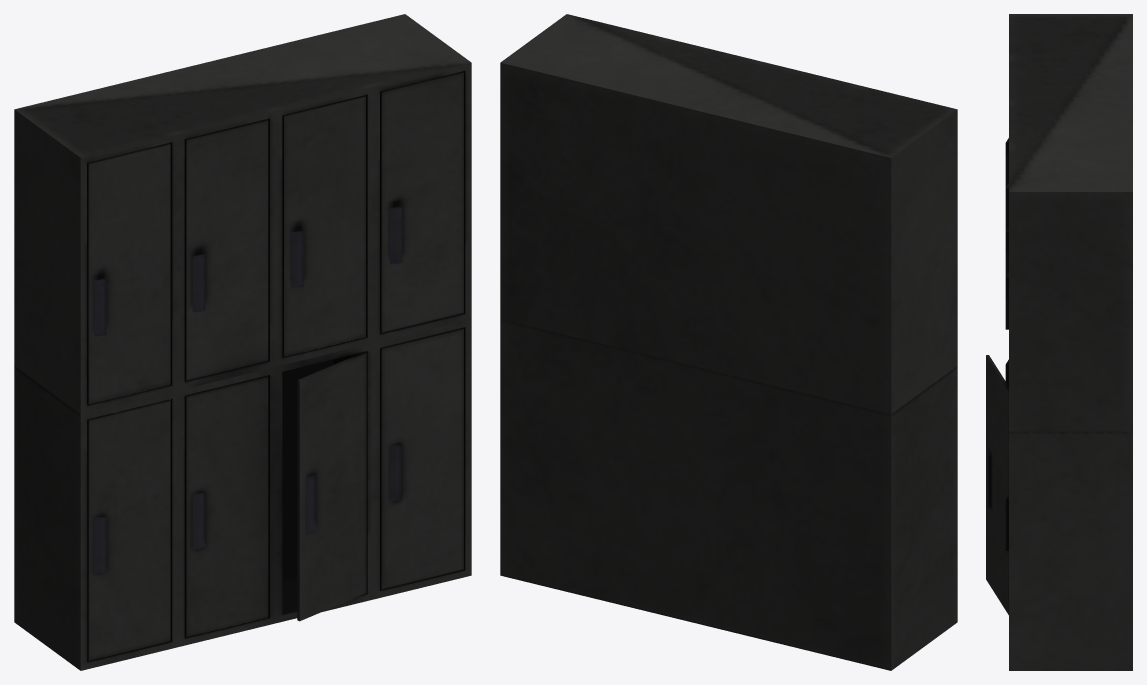
File: Locker_2.fbx
3 renders of one model, left to right at view 1: azimuth 30°, elevation 25°; view 2: azimuth 150°, elevation 25°; view 3: azimuth 270°, elevation 25°, orthographic. The views are drawn at different scales.
Parts seen in each view (by area): view 1: Locker_2; view 2: Locker_2; view 3: Locker_2.
Part boxes in pixels (box(x1,y1,x2,y2)): Locker_2: box(14, 14, 471, 670); Locker_2: box(500, 14, 957, 670); Locker_2: box(986, 14, 1132, 670).
Bounding box in the file's own units: 89.59 × 112 × 31.22.
